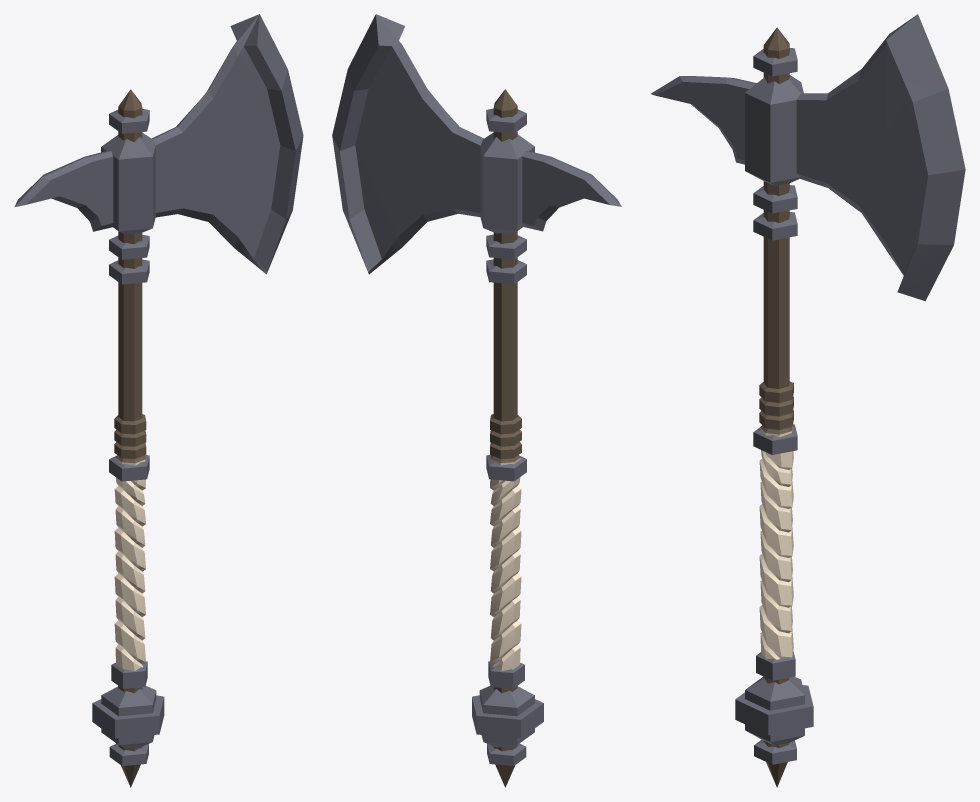
Rendered from _AXE.fbx.
3 renders of one model, left to right at view 1: azimuth 30°, elevation 25°; view 2: azimuth 150°, elevation 25°; view 3: azimuth 330°, elevation 25°, orthographic. The views are drawn at different scales.
Parts seen in each view (by area): view 1: AXE; view 2: AXE; view 3: AXE.
Part boxes in pixels (x1,y1,x2,y2): AXE: (14,14,303,787); AXE: (332,14,621,787); AXE: (651,14,965,787).
Bounding box in the file's own units: 45.21 × 111 × 9.96.
